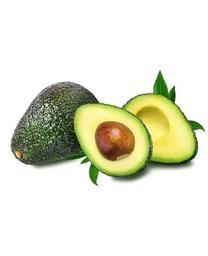avocado: (11, 81, 104, 168), (73, 104, 154, 179), (122, 92, 197, 166)
